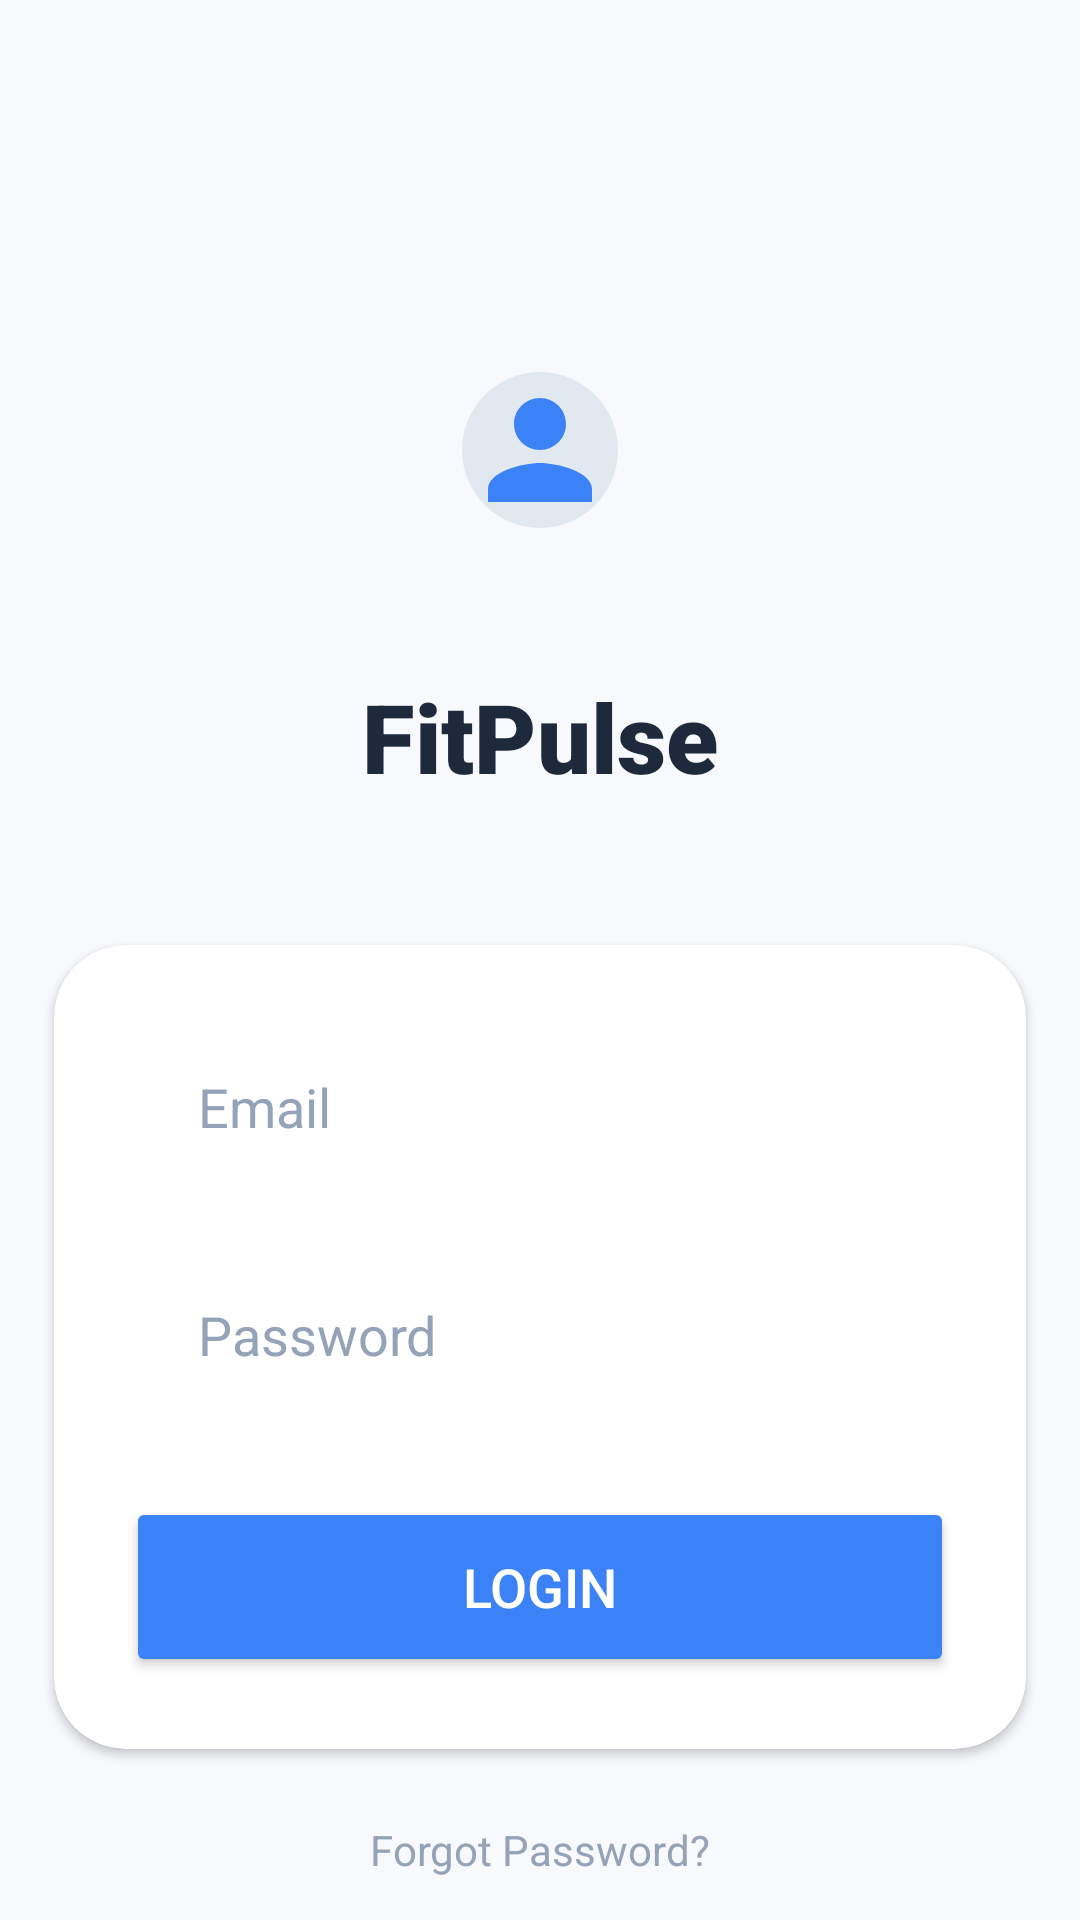

Named icons in this screenshot (1080px x 1920px) and their centers, (x,y):
User Icon: (540,450)
